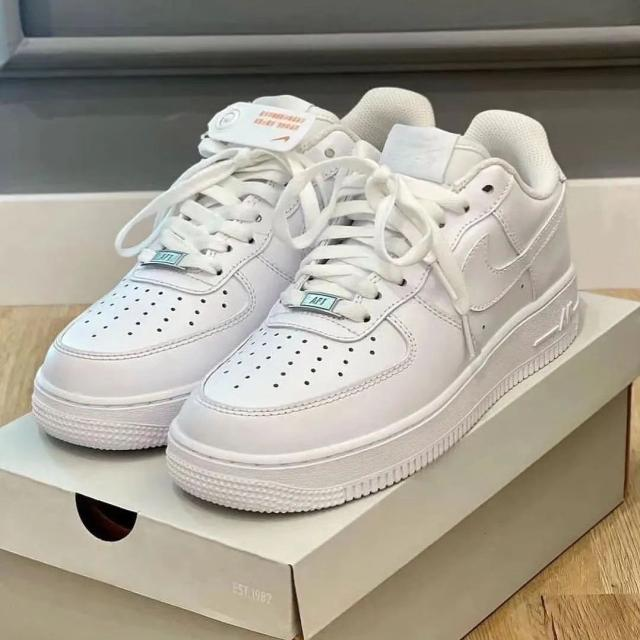nike original air force: (157, 90, 592, 517), (24, 90, 412, 456)
